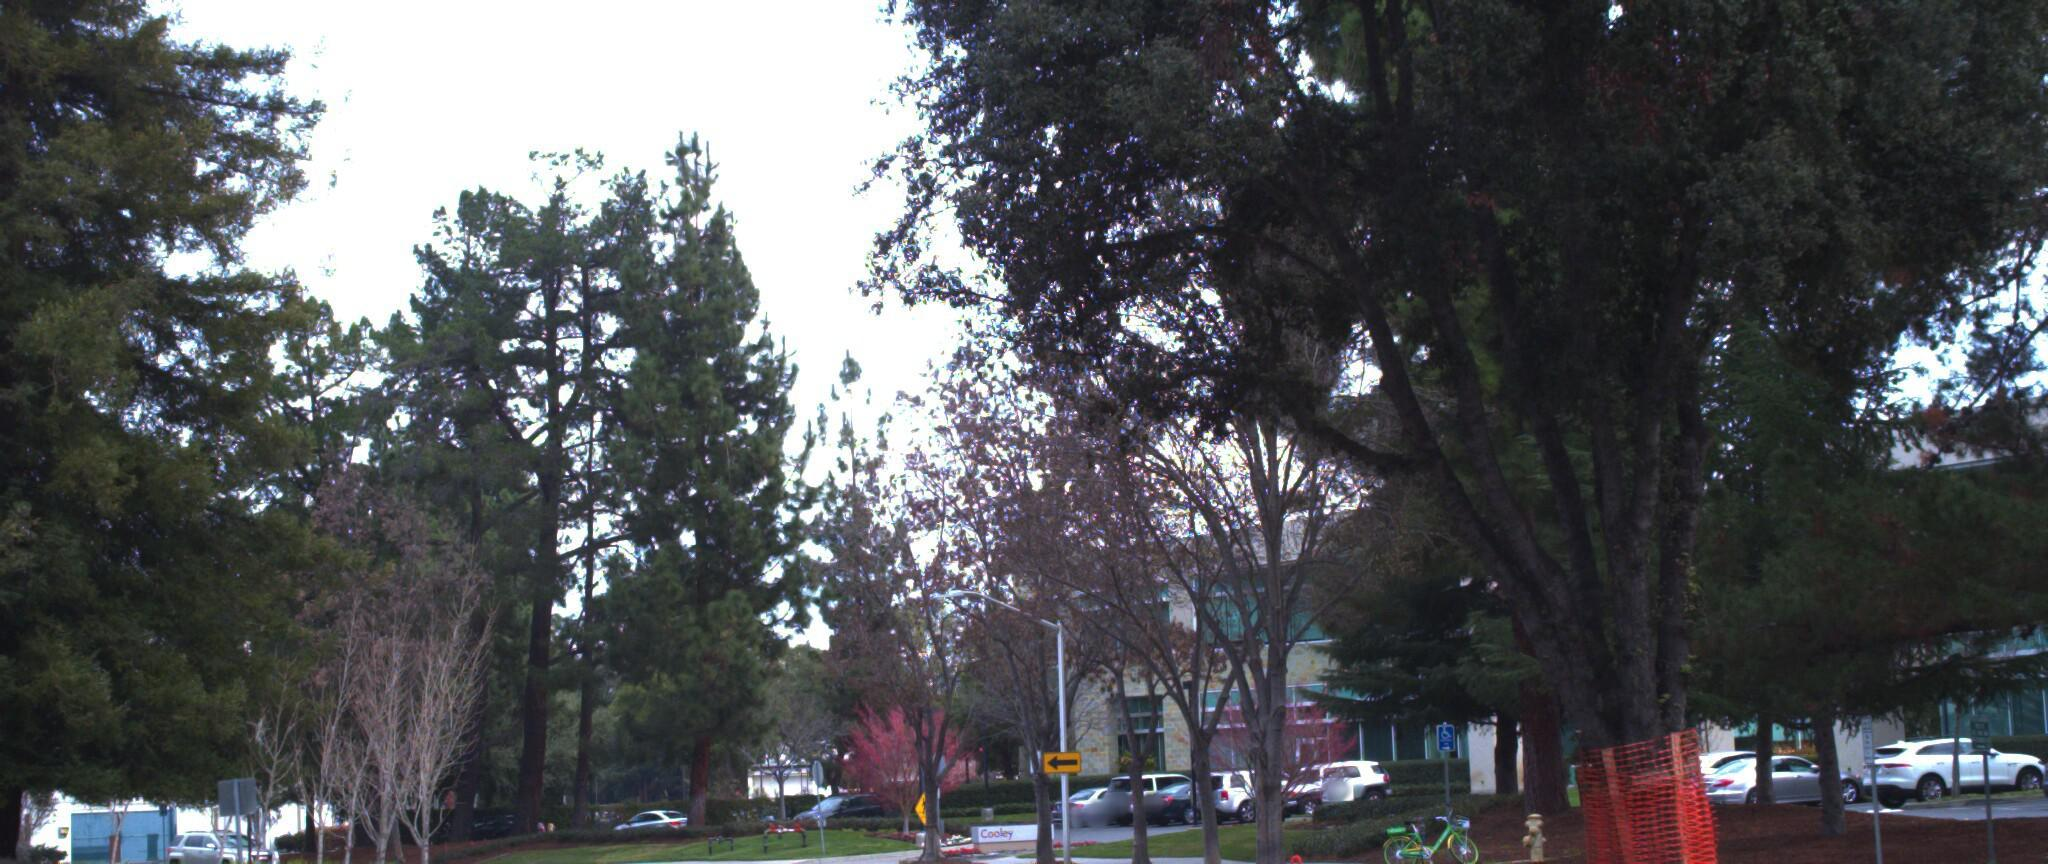bicycle: (1371, 797, 1488, 864)
